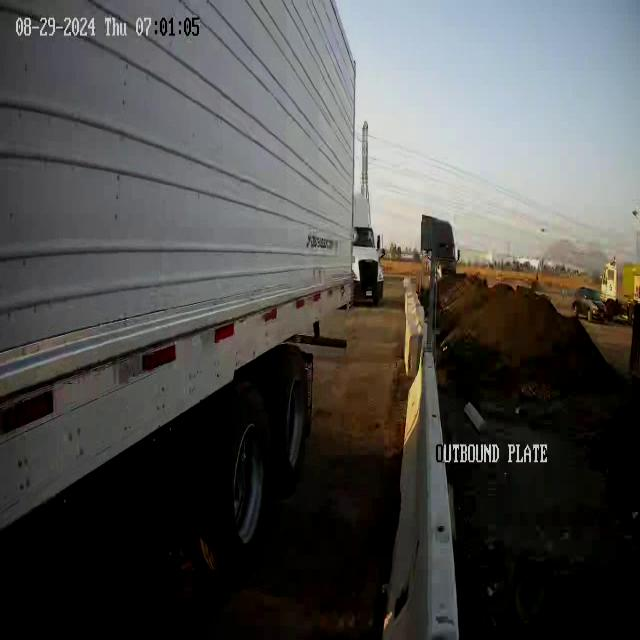CONTAINER: (1, 1, 355, 538)
